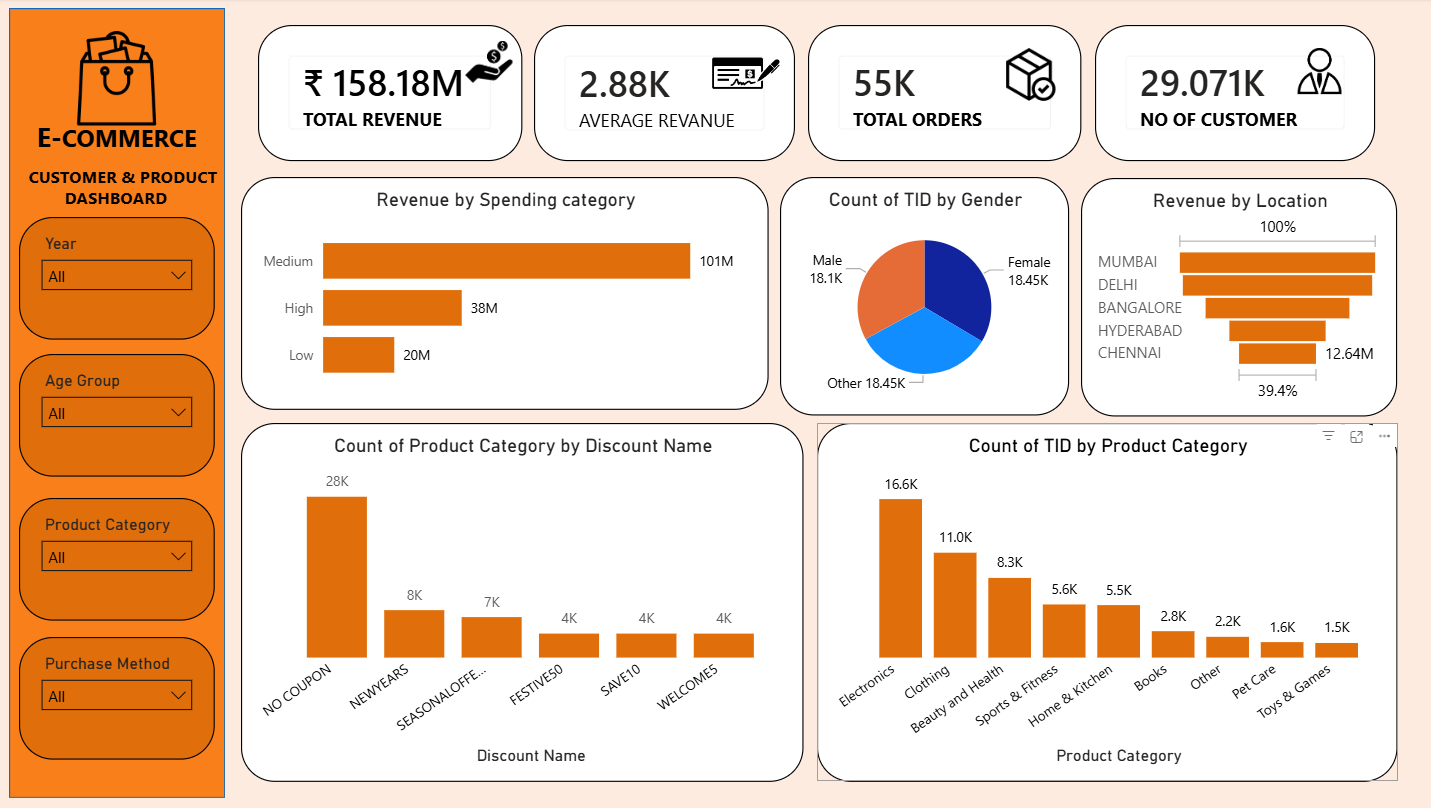

What the dashboard file says about the page in this screenshot:
{"tool":"powerbi","page":{"name":"CUSTOMER & PRODUCT DEEP-DIVE","canvas":[1280,720],"ordinal":1},"visuals":[{"type":"shape","box":[10,8.9,192.2,702.2],"z":0},{"type":"slicer","fields":{"Values":["Clean data.Year"]},"box":[18.9,194.4,174.4,108.9],"z":1000},{"type":"slicer","fields":{"Values":["Clean data.Age Group"]},"box":[18.9,316.7,174.4,108.9],"z":2000},{"type":"slicer","fields":{"Values":["Clean data.Product Category"]},"box":[18.9,444.4,174.4,108.9],"z":3000},{"type":"slicer","fields":{"Values":["Clean data.Purchase Method"]},"box":[18.9,567.8,174.4,108.9],"z":4000},{"type":"barChart","fields":{"Category":["Clean data.Spending category"],"Y":["Clean data.Revenue"]},"box":[216,159.3,469.1,207.4],"z":5000},{"type":"clusteredColumnChart","fields":{"Category":["Clean data.Discount Name"],"Y":["CountNonNull(Clean data.Product Category)"]},"box":[216,377.4,500,318.5],"z":6000},{"type":"funnel","fields":{"Y":["Clean data.Revenue"],"Category":["Clean data.Location"]},"box":[963,160.1,281.5,212.3],"z":7000},{"type":"columnChart","fields":{"Category":["Clean data.Product Category"],"Y":["CountNonNull(Clean data.TID)"]},"box":[728.4,377.4,516,318.5],"z":8000},{"type":"pieChart","fields":{"Category":["Clean data.Gender"],"Y":["CountNonNull(Clean data.TID)"]},"box":[695.1,158.8,256.8,212.3],"z":9000},{"type":"cardVisual","fields":{"Data":["Sum(Clean data.Net Amount)"]},"box":[230.9,24.3,234.6,121],"z":10000},{"type":"cardVisual","fields":{"Data":["CountNonNull(Clean data.TID)"]},"box":[719.8,24.3,243.2,121],"z":11000},{"type":"cardVisual","fields":{"Data":["Count(Clean data.CID)"]},"box":[975.3,24.3,249.4,121],"z":12000},{"type":"cardVisual","fields":{"Data":["Clean data.Average Order Value"]},"box":[476.8,23.9,232.2,121.1],"z":13000},{"type":"image","box":[413.6,37.8,45.7,37],"z":14000},{"type":"image","box":[634.6,41.5,60.5,49.4],"z":15000},{"type":"image","box":[891.4,44,53.1,46.9],"z":16000},{"type":"image","box":[1150.6,44,49.4,40.7],"z":17000},{"type":"textbox","box":[29.6,101.2,165.4,49.4],"z":18000},{"type":"image","box":[16,29.6,179,84],"z":19000},{"type":"textbox","box":[22.2,143.2,188.9,37],"z":20000},{"type":"textbox","box":[54.3,161.7,125.9,37],"z":21000}]}

Visuals, with their boxes in screenshot pixels (x1, y1, x2, y2), scaled from the page's 1280x720 canvas onto the 1431x808 screenshot:
shape: BBox(11, 10, 226, 798)
slicer - Clean data.Year: BBox(21, 218, 216, 340)
slicer - Clean data.Age Group: BBox(21, 355, 216, 478)
slicer - Clean data.Product Category: BBox(21, 499, 216, 621)
slicer - Clean data.Purchase Method: BBox(21, 637, 216, 759)
barChart - Clean data.Spending category x Clean data.Revenue: BBox(241, 179, 766, 412)
clusteredColumnChart - Clean data.Discount Name x CountNonNull(Clean data.Product Category): BBox(241, 424, 800, 781)
funnel - Clean data.Revenue x Clean data.Location: BBox(1077, 180, 1391, 418)
columnChart - Clean data.Product Category x CountNonNull(Clean data.TID): BBox(814, 424, 1391, 781)
pieChart - Clean data.Gender x CountNonNull(Clean data.TID): BBox(777, 178, 1064, 416)
cardVisual - Sum(Clean data.Net Amount): BBox(258, 27, 520, 163)
cardVisual - CountNonNull(Clean data.TID): BBox(805, 27, 1077, 163)
cardVisual - Count(Clean data.CID): BBox(1090, 27, 1369, 163)
cardVisual - Clean data.Average Order Value: BBox(533, 27, 793, 163)
image: BBox(462, 42, 513, 84)
image: BBox(709, 47, 777, 102)
image: BBox(997, 49, 1056, 102)
image: BBox(1286, 49, 1342, 95)
textbox: BBox(33, 114, 218, 169)
image: BBox(18, 33, 218, 127)
textbox: BBox(25, 161, 236, 202)
textbox: BBox(61, 181, 201, 223)
